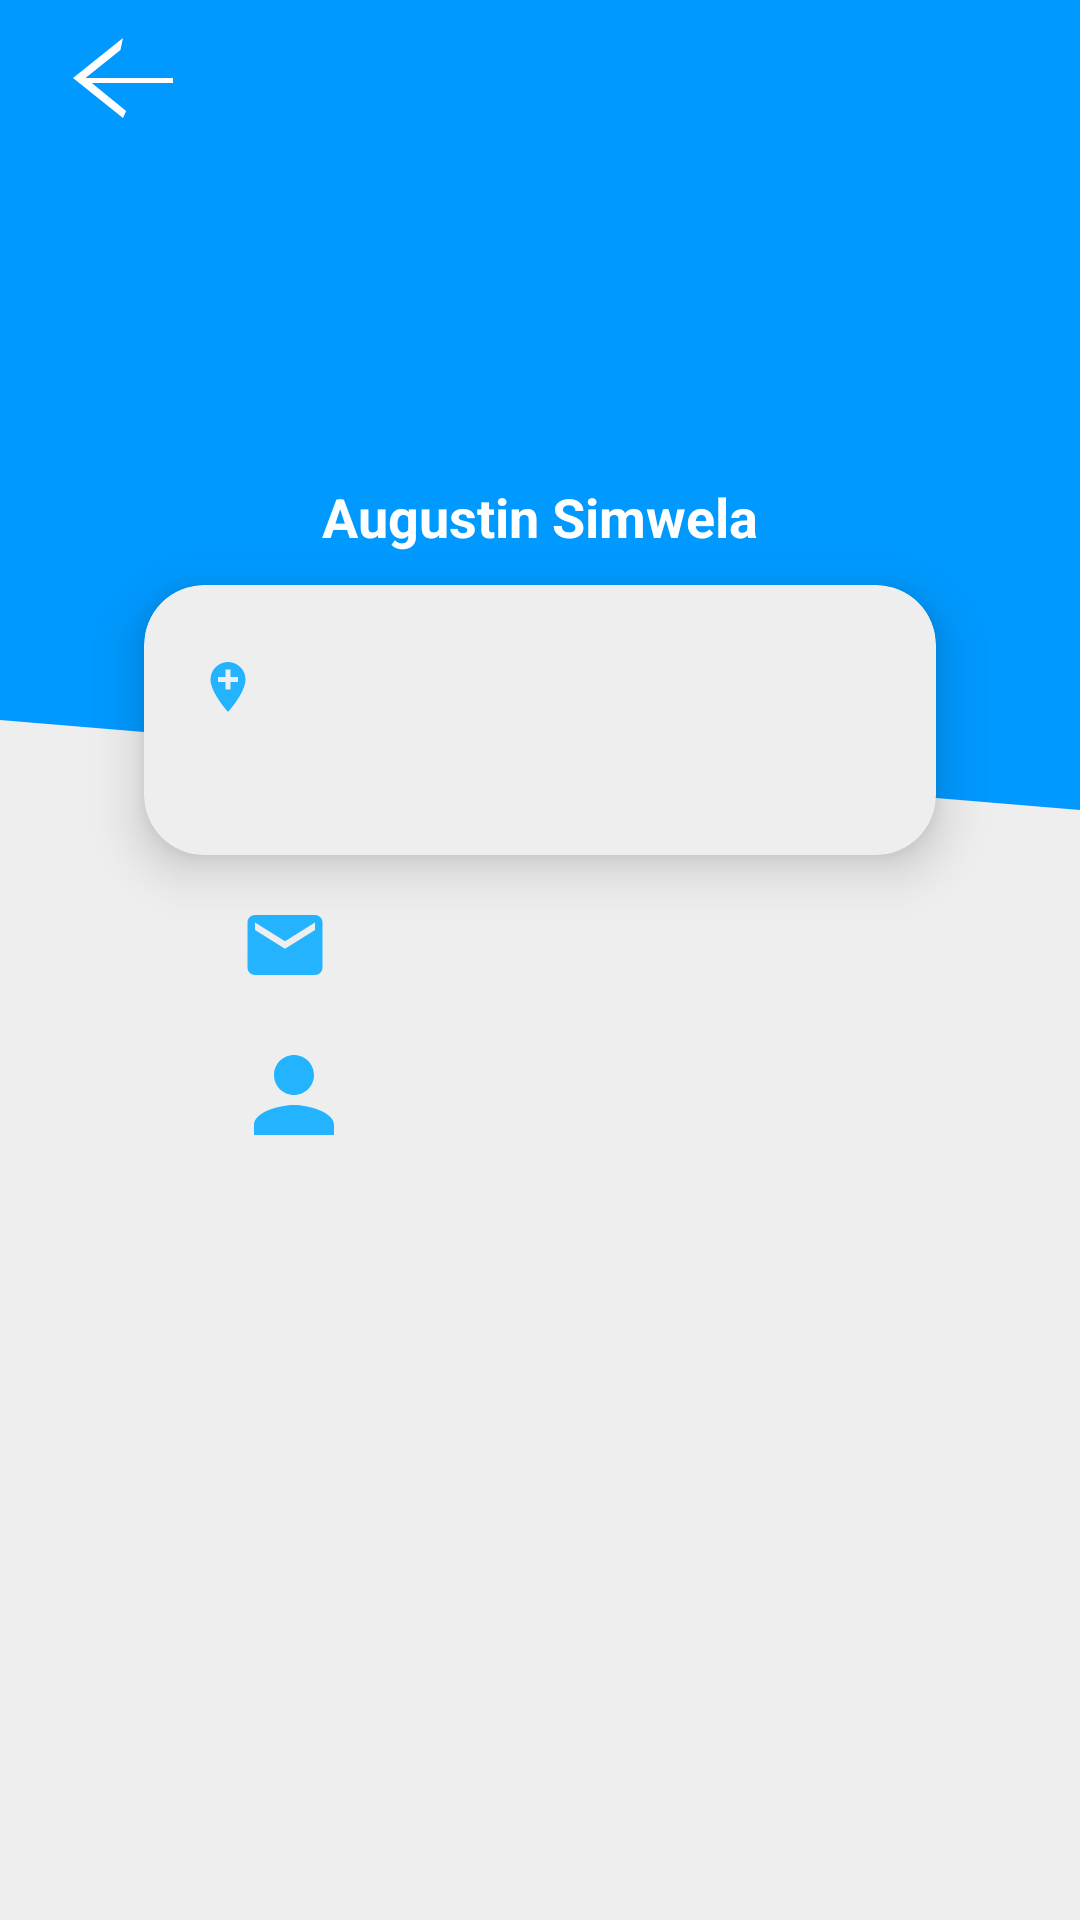

Where to tap for icons on this 1080px x 1920px app screen, as (x=x, y=y):
back arrow: (x=123, y=78)
email: (x=285, y=945)
location: (x=228, y=687)
person: (x=294, y=1095)
